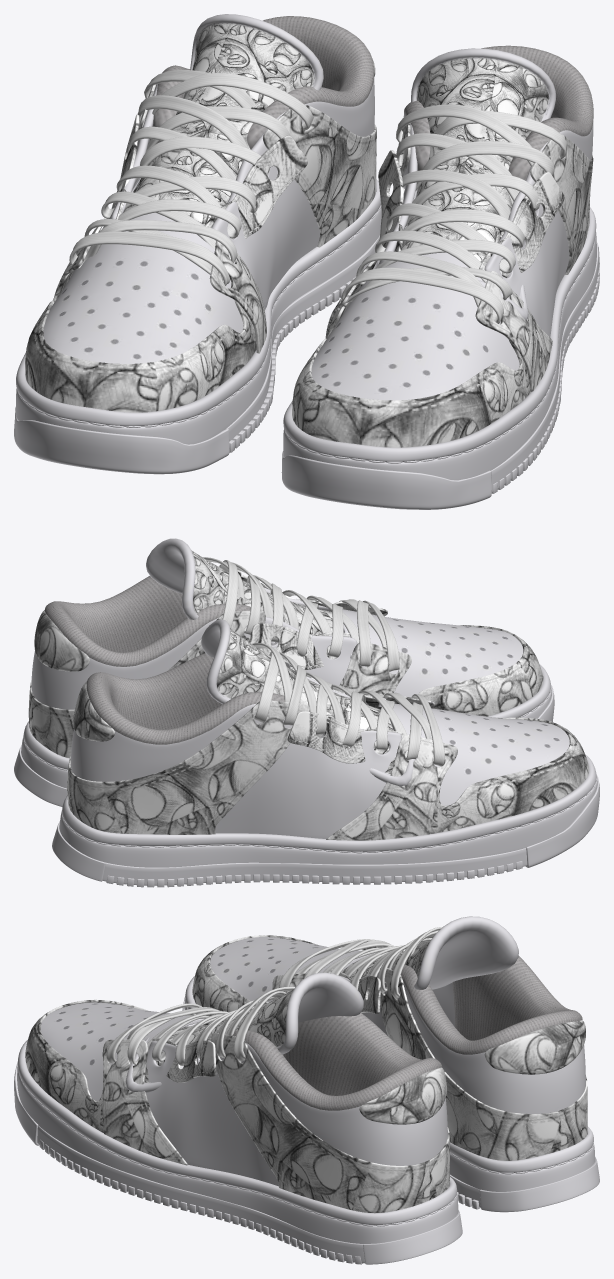
Rendered from custom.glb.
3 views of the same model, one above another, from view 1: azimuth 30°, elevation 25°; view 2: azimuth 150°, elevation 25°; view 3: azimuth 270°, elevation 25° (orthographic). The views are drawn at different scales.
Parts seen in each view (by area): view 1: Lace / Dubrae Left, Lace / Dubrae Right, Vamp Right, Vamp Left, Midsole Right, Tongue Left, Tip Left, Tip Right, Midsole Left, Tongue Right, Foxing / Lining Right, Foxing / Lining Back Right (+17 smaller); view 2: Midsole Right, Foxing / Lining Right, Foxing / Lining Back Right, Lining Left, Lining Right, Vamp Right, Vamp Left, Lace / Dubrae Right, Tip Right, Lace / Dubrae Left, Outsole Side Right, Tip Right Right (+16 smaller); view 3: Foxing / Lining Left, Foxing / Lining Back Left, Midsole Left, Lining Left, Foxing / Lining Back Right, Lining Right, Foxing / Lining Right, Tongue Right, Tongue Left, Vamp Left, Tip Left Left, Outsole Side Left (+15 smaller).
Boxes of the visible parts, bbox=[...] form: Lace / Dubrae Left: bbox=[341, 104, 566, 323]; Lace / Dubrae Right: bbox=[69, 70, 313, 285]; Vamp Right: bbox=[43, 212, 243, 363]; Vamp Left: bbox=[311, 252, 519, 400]; Midsole Right: bbox=[16, 179, 381, 444]; Tongue Left: bbox=[402, 48, 555, 320]; Tip Left: bbox=[292, 301, 530, 447]; Tip Right: bbox=[25, 271, 256, 412]; Midsole Left: bbox=[283, 207, 596, 480]; Tongue Right: bbox=[123, 14, 323, 225]; Foxing / Lining Right: bbox=[102, 77, 374, 309]; Foxing / Lining Back Right: bbox=[137, 84, 376, 247]; Midsole Right: bbox=[59, 754, 597, 867]; Foxing / Lining Right: bbox=[70, 676, 401, 838]; Foxing / Lining Back Right: bbox=[67, 660, 309, 834]; Lining Left: bbox=[44, 576, 250, 666]; Lining Right: bbox=[86, 653, 284, 744]; Vamp Right: bbox=[378, 703, 569, 805]; Vamp Left: bbox=[342, 609, 523, 697]; Lace / Dubrae Right: bbox=[252, 643, 444, 766]; Tip Right: bbox=[430, 717, 588, 833]; Lace / Dubrae Left: bbox=[203, 557, 399, 671]; Outsole Side Right: bbox=[102, 848, 527, 885]; Tip Right Right: bbox=[326, 735, 457, 840]; Foxing / Lining Left: bbox=[146, 1040, 447, 1186]; Foxing / Lining Back Left: bbox=[211, 1032, 449, 1213]; Midsole Left: bbox=[17, 1040, 458, 1243]; Lining Left: bbox=[232, 1013, 442, 1110]; Foxing / Lining Back Right: bbox=[380, 968, 587, 1160]; Lining Right: bbox=[391, 956, 582, 1054]; Foxing / Lining Right: bbox=[339, 972, 585, 1113]; Tongue Right: bbox=[341, 916, 518, 989]; Tongue Left: bbox=[125, 972, 363, 1092]; Vamp Left: bbox=[41, 1002, 210, 1101]; Tip Left Left: bbox=[102, 1039, 187, 1165]; Outsole Side Left: bbox=[37, 1125, 365, 1263].
Size of the model in its own units: 1.17 by 0.5086 by 1.15.
3 materials, 2 textured.
